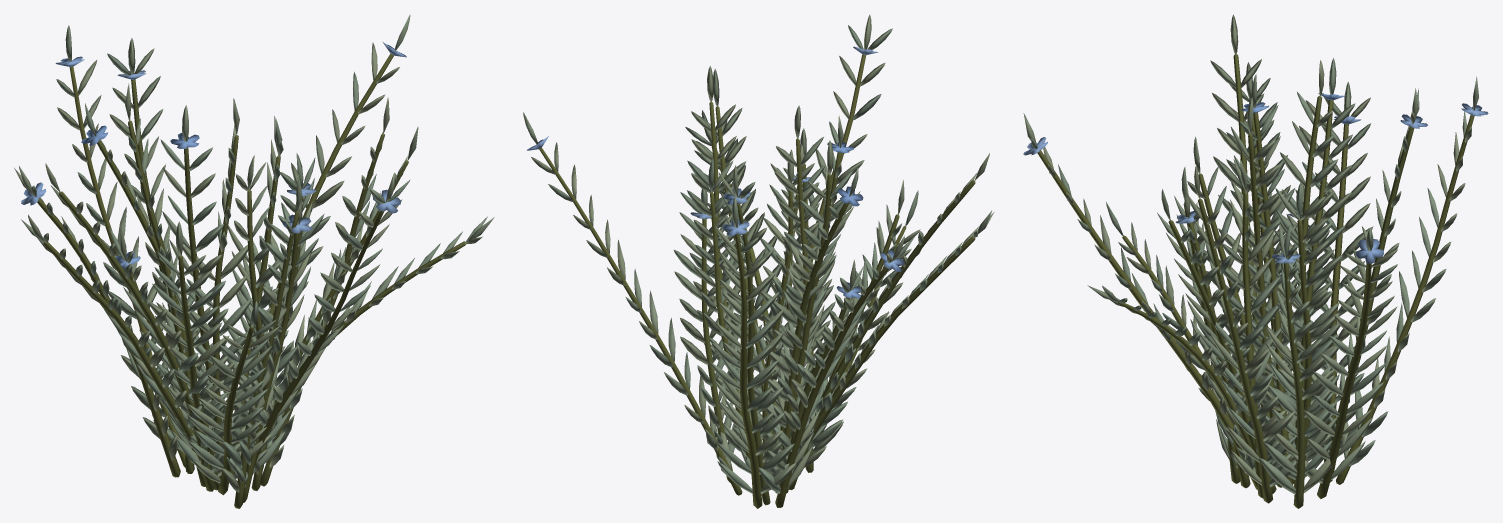
File: potfill_rosemary.glb
3 renders of one model, left to right at view 1: azimuth 30°, elevation 25°; view 2: azimuth 150°, elevation 25°; view 3: azimuth 270°, elevation 25°, orthographic. The views are drawn at different scales.
Parts seen in each view (by area): view 1: Sammel Pflanze, Sammel Putz; view 2: Sammel Pflanze, Sammel Putz; view 3: Sammel Pflanze, Sammel Putz.
Boxes of the visible parts, x1,y1,x2,y2 form: Sammel Pflanze: [14, 14, 494, 492]; Sammel Putz: [37, 53, 465, 508]; Sammel Pflanze: [523, 14, 994, 494]; Sammel Putz: [539, 54, 975, 508]; Sammel Pflanze: [1023, 14, 1488, 494]; Sammel Putz: [1037, 54, 1474, 508].
Bounding box in the file's own units: 0.4609 × 0.405 × 0.4342.
